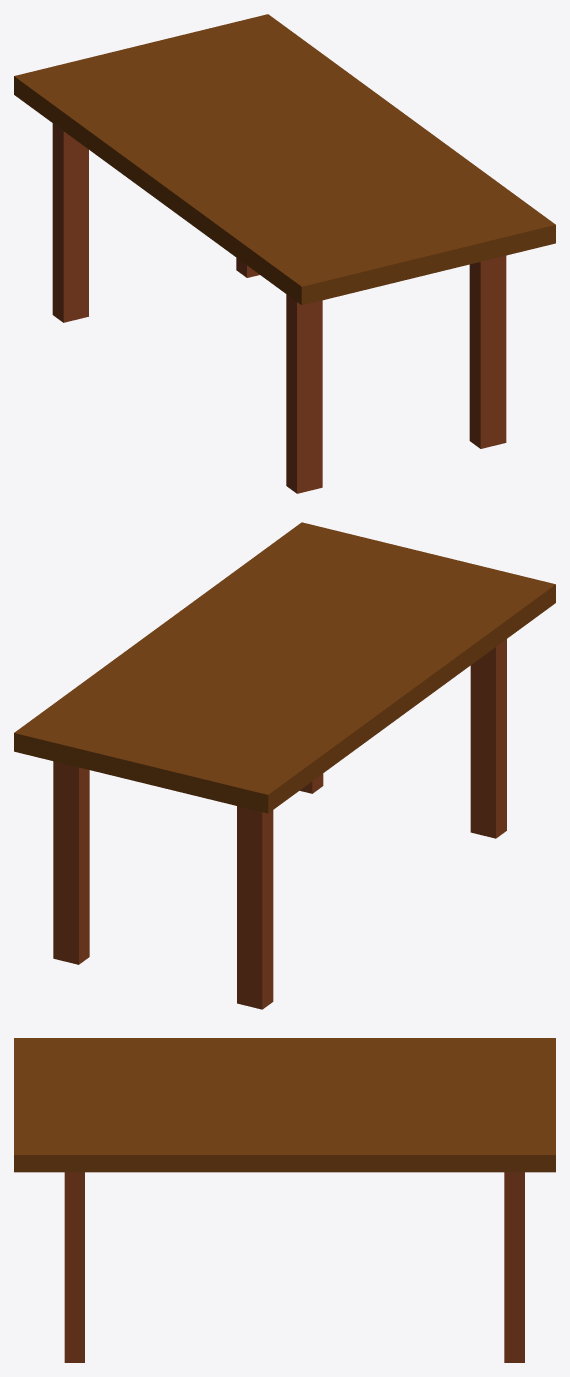
File: table.fbx
3 renders of one model, top to bottom at view 1: azimuth 30°, elevation 25°; view 2: azimuth 150°, elevation 25°; view 3: azimuth 270°, elevation 25°, orthographic. The views are drawn at different scales.
Visible parts, largest first — view 1: pCube507, pCube532, pCube531, pCube530; view 2: pCube507, pCube530, pCube508, pCube531; view 3: pCube507, pCube508, pCube532.
Part boxes in pixels (<box>): pCube507: <box>14,14,555,305</box>; pCube532: <box>469,255,506,448</box>; pCube531: <box>286,294,322,493</box>; pCube530: <box>52,123,88,322</box>; pCube507: <box>14,522,555,813</box>; pCube530: <box>237,806,273,1009</box>; pCube508: <box>53,761,89,964</box>; pCube531: <box>470,639,506,838</box>; pCube507: <box>14,1038,555,1172</box>; pCube508: <box>504,1172,524,1362</box>; pCube532: <box>64,1172,84,1362</box>.
Size of the model in its own units: 149 by 130 by 292.
Materials: 1 (1 with a texture image).
